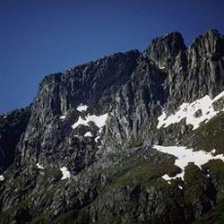neutral: (3, 12, 222, 220)
